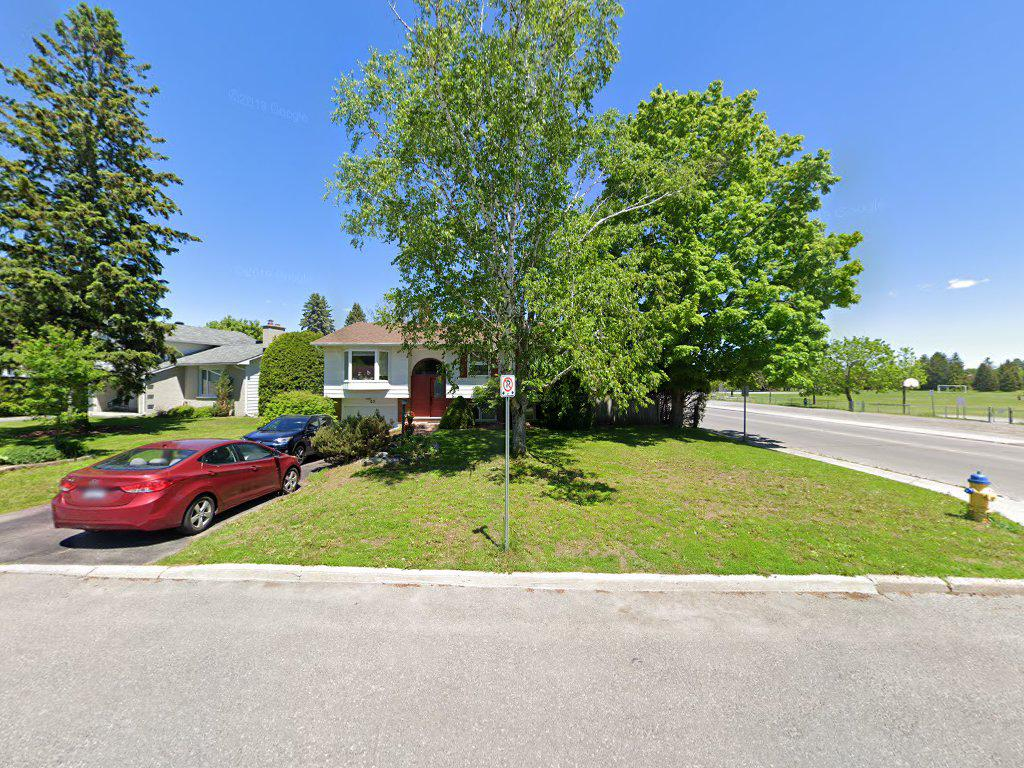trunk: (511, 338, 536, 463)
